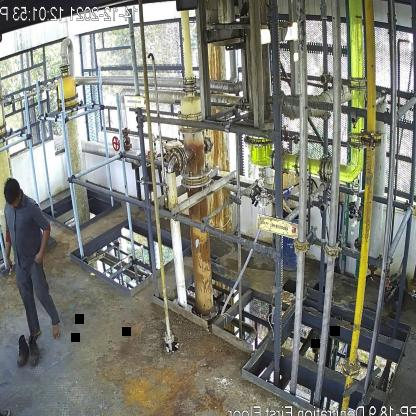no_shoes: (48, 322, 63, 339)
shoes: (14, 332, 30, 373), (28, 333, 42, 366)
